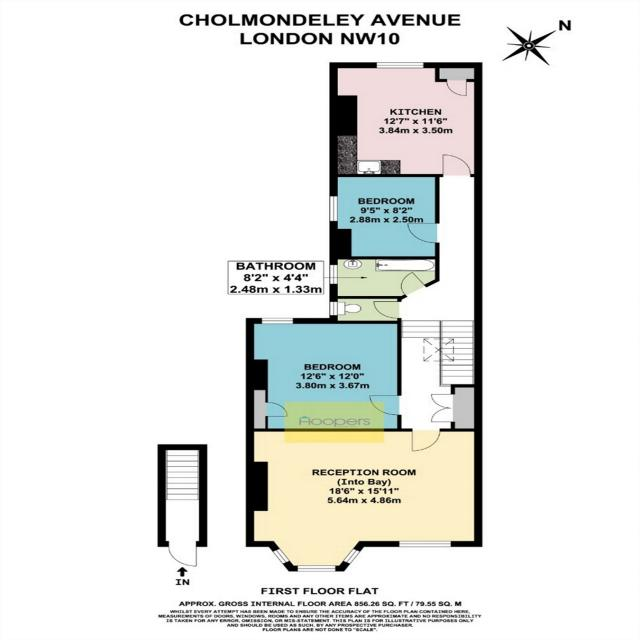DOOR: (368, 394, 402, 416), (406, 222, 440, 244), (411, 428, 441, 452), (441, 154, 472, 177), (400, 271, 427, 297), (372, 300, 402, 319)
ROOM: (245, 428, 483, 572), (245, 318, 402, 432), (329, 62, 483, 177), (329, 174, 440, 260)
WINDOW: (375, 62, 424, 69), (272, 548, 291, 565), (342, 548, 361, 565), (398, 541, 451, 547), (297, 565, 336, 572), (329, 196, 338, 222), (261, 318, 293, 324), (329, 264, 338, 285), (329, 301, 338, 316)
